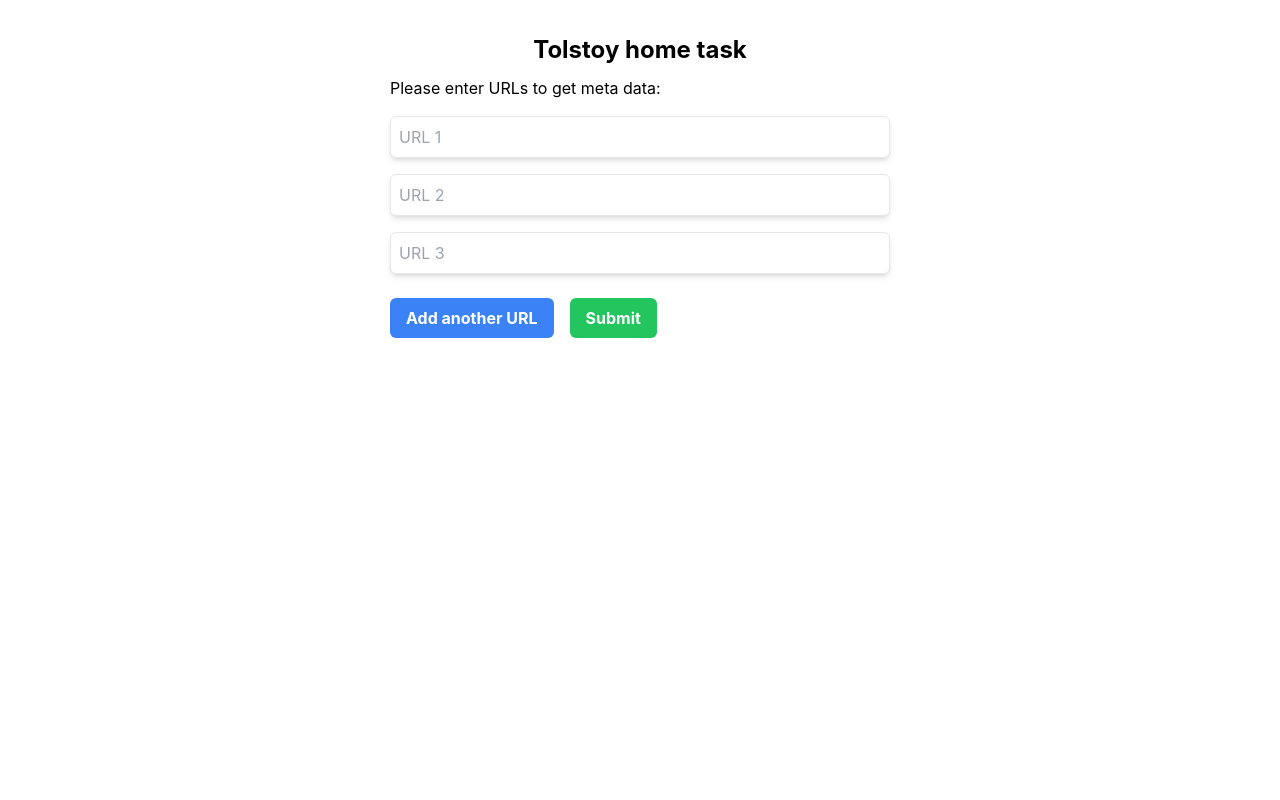
Test: MultiURLForm Component › fetches metadata for the provided URLs when the form is submitted
Type "https://example.com" into the field with placeholder "URL 1". click: coordinates (640, 137)
box: [390,116,890,158]
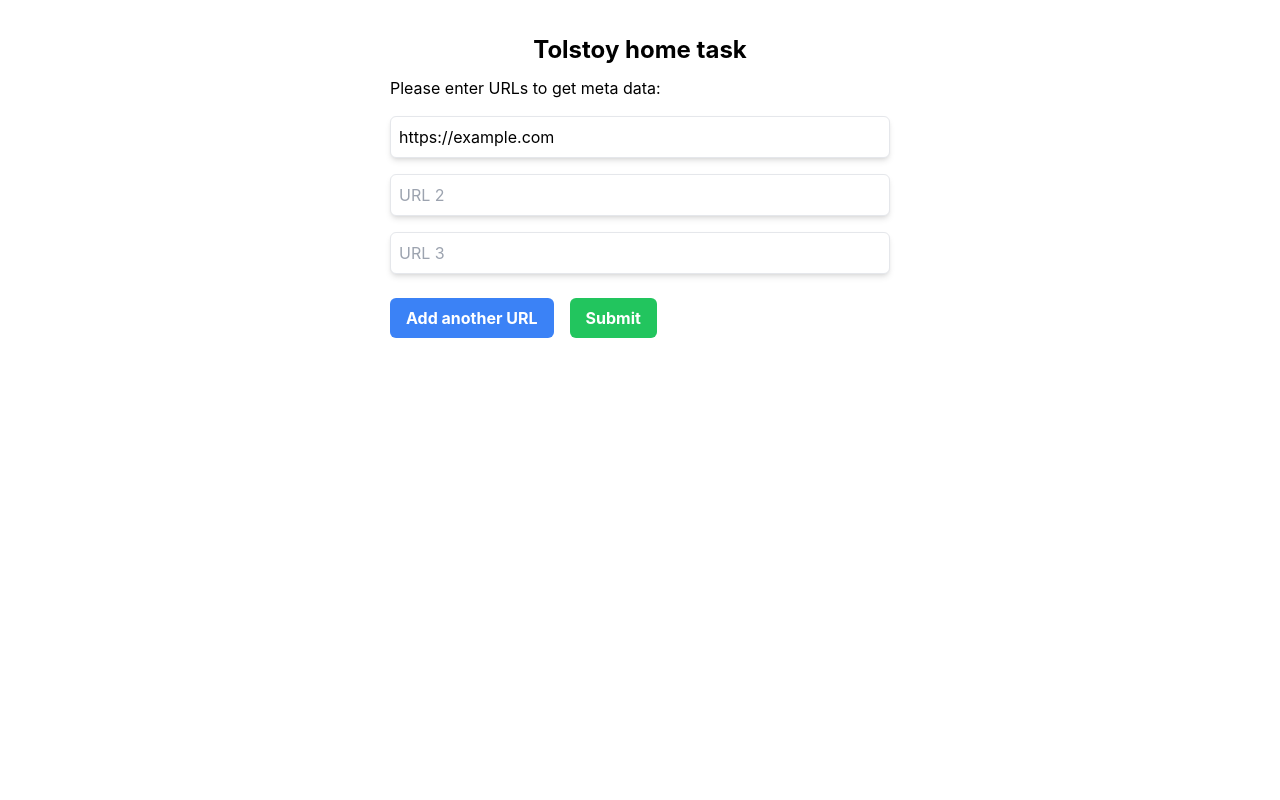
Type "https://example2.com" into the field with placeholder "URL 2". click: coordinates (640, 195)
box: [390,174,890,216]
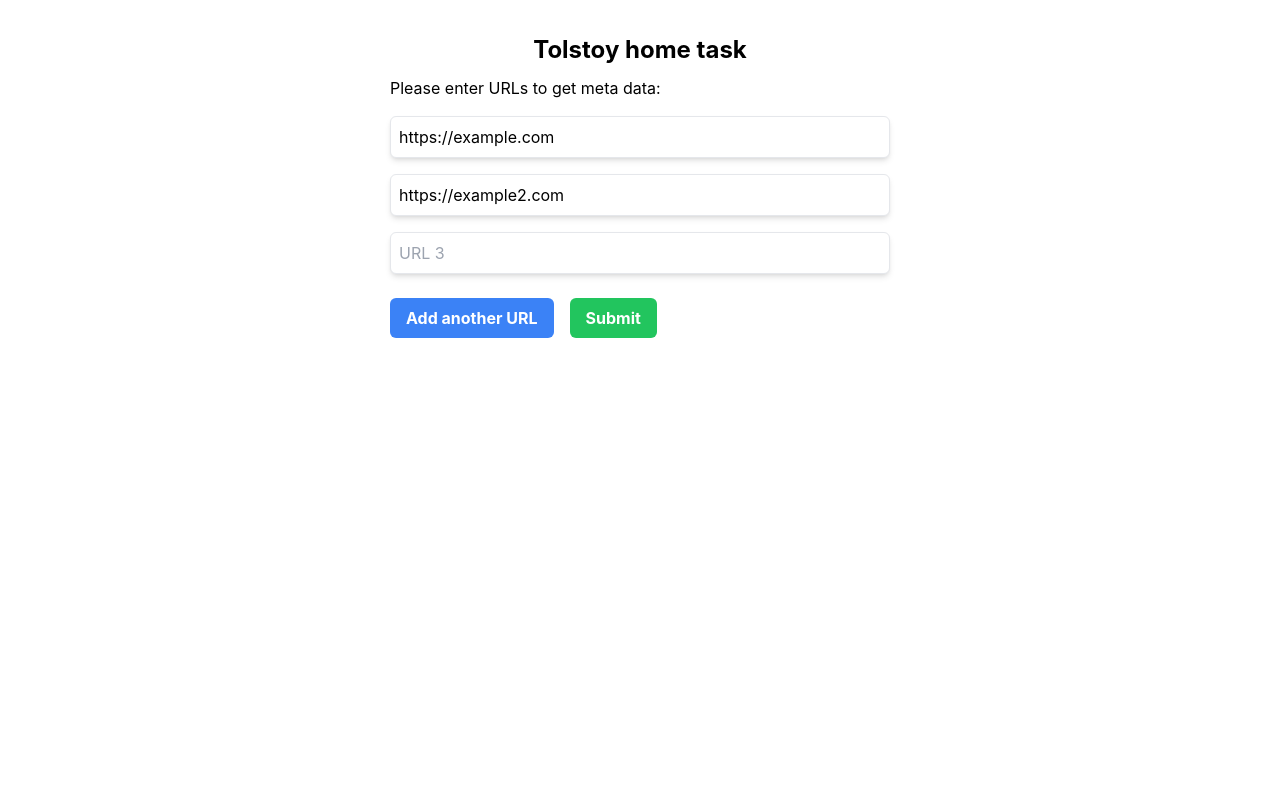
Type "https://example3.com" into the field with placeholder "URL 3". click: coordinates (640, 253)
box: [390,232,890,274]
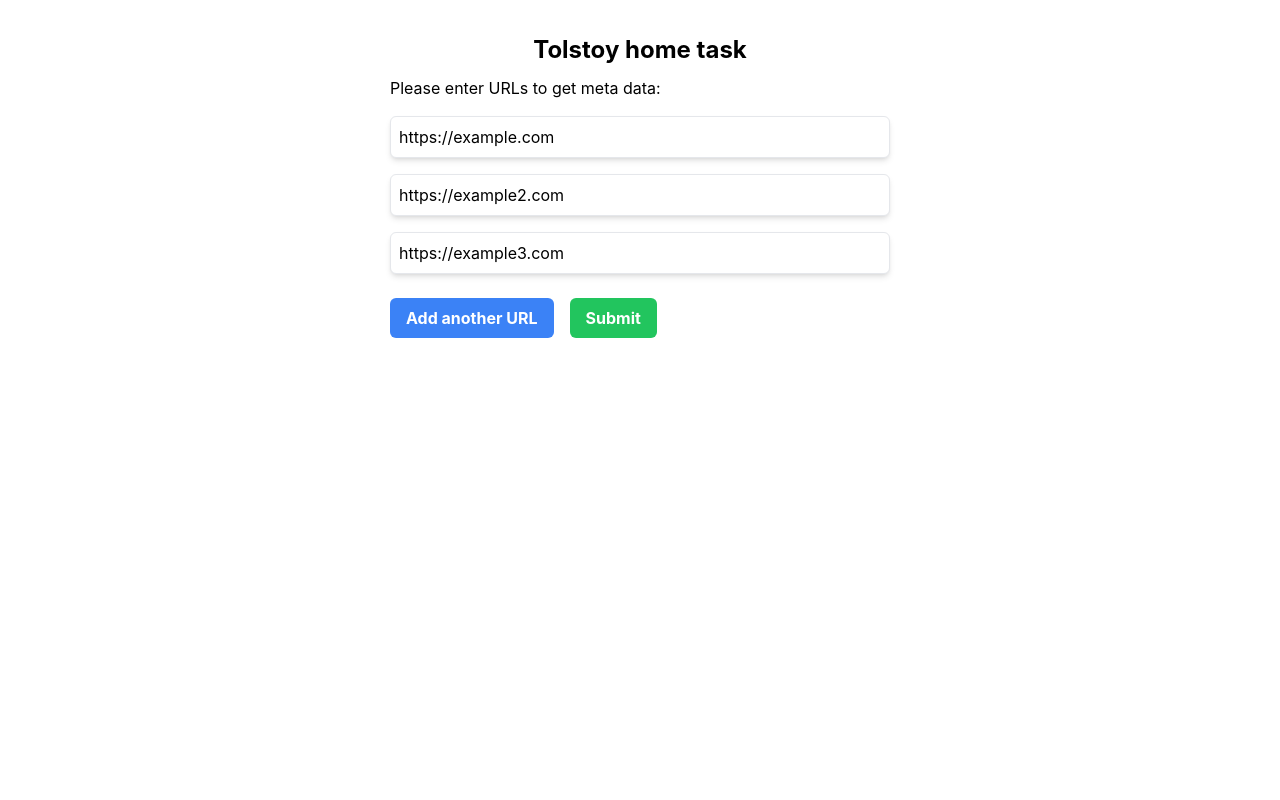
Click the button "Submit". click: coordinates (613, 318)
box: [570,298,657,338]
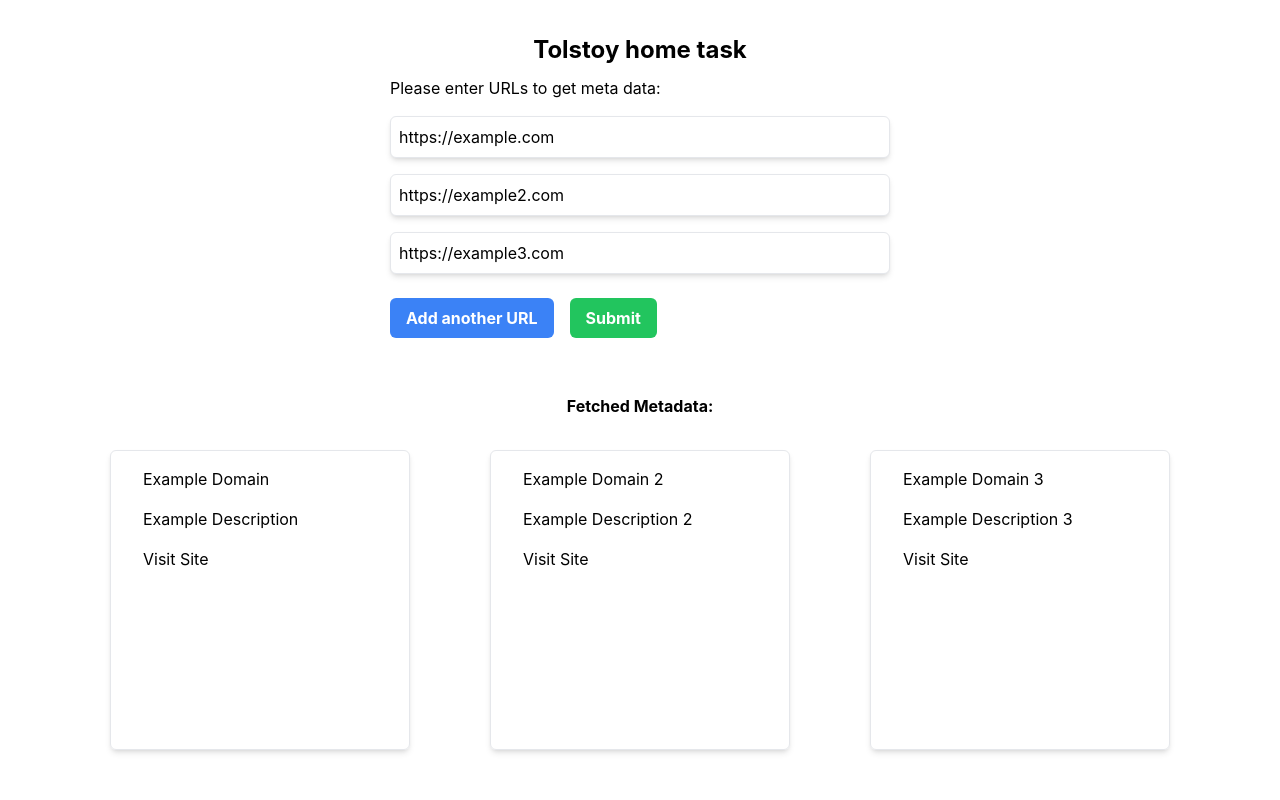
Now the heading "Example Domain" is shown, box [143,469,269,489]
Now the heading "Example Domain 2" is shown, box [523,469,664,489]
Now the heading "Example Domain 3" is shown, box [903,469,1044,489]
